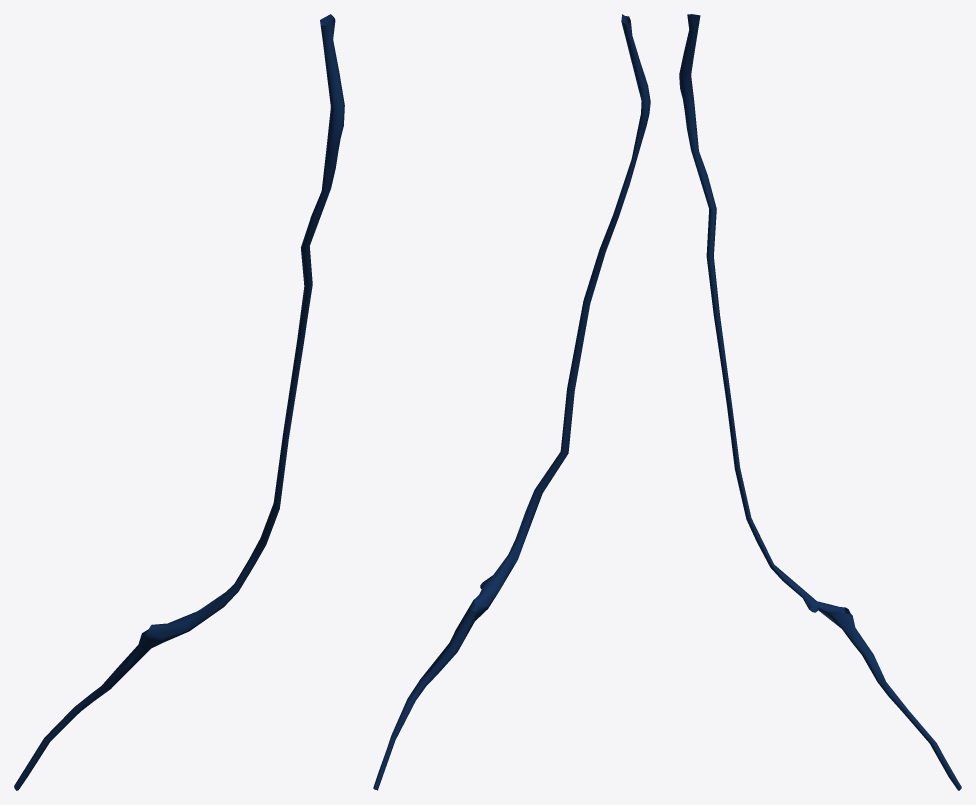
The model's file is L vena cephalica.fbx.
3 renders of one model, left to right at view 1: azimuth 90°, elevation 25°; view 2: azimuth 150°, elevation 25°; view 3: azimuth 270°, elevation 25°, orthographic. The views are drawn at different scales.
Parts seen in each view (by area): view 1: L vena cephalica, L vena cephalica low; view 2: L vena cephalica, L vena cephalica low; view 3: L vena cephalica, L vena cephalica low.
Boxes of the visible parts, left/top/right/bottom form: L vena cephalica: left=14, top=14, right=344, bottom=790; L vena cephalica low: left=14, top=14, right=344, bottom=790; L vena cephalica: left=373, top=14, right=650, bottom=788; L vena cephalica low: left=373, top=14, right=650, bottom=790; L vena cephalica: left=679, top=14, right=961, bottom=790; L vena cephalica low: left=682, top=16, right=960, bottom=786.
Size of the model in its own units: 5.38 by 25.84 by 9.19.
